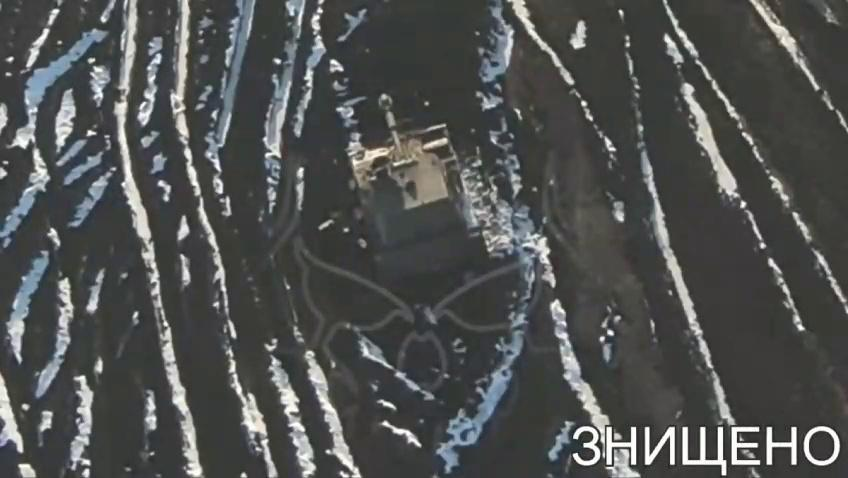sau: (343, 94, 493, 284)
